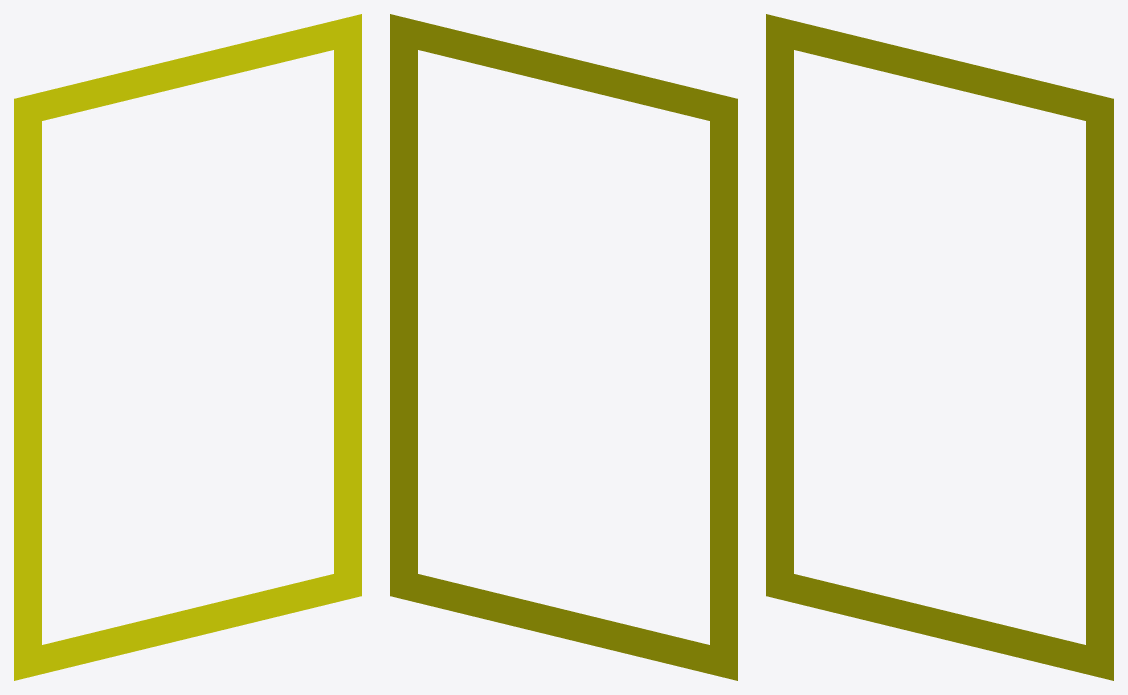
File: RoomSelector_Size1.fbx
3 views of the same model, side by side, from view 1: azimuth 30°, elevation 25°; view 2: azimuth 150°, elevation 25°; view 3: azimuth 330°, elevation 25° (orthographic).
Parts seen in each view (by area): view 1: RoomSelectorSize1; view 2: RoomSelectorSize1; view 3: RoomSelectorSize1.
Boxes of the visible parts, bbox=[...] form: RoomSelectorSize1: bbox=[14, 14, 361, 680]; RoomSelectorSize1: bbox=[390, 14, 737, 680]; RoomSelectorSize1: bbox=[766, 14, 1113, 680].
Bounding box in the file's own units: 250 × 400 × 0.
